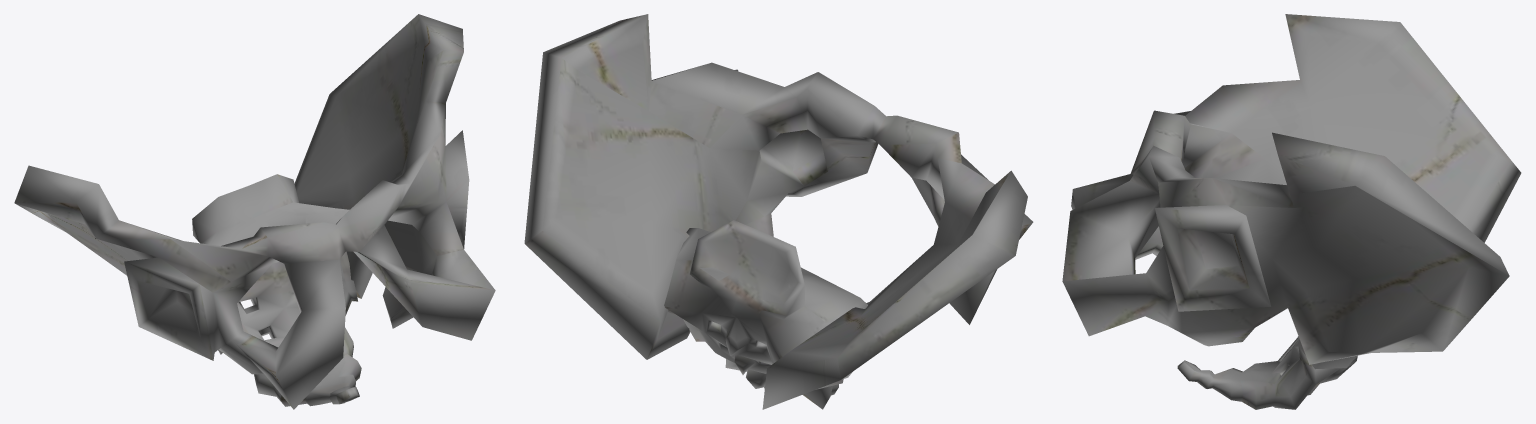
Rendered from Dungeon_Pelvis.glb.
3 renders of one model, left to right at view 1: azimuth 30°, elevation 25°; view 2: azimuth 150°, elevation 25°; view 3: azimuth 270°, elevation 25°, orthographic. The views are drawn at different scales.
Visible parts, largest first — view 1: Dungeon_Pelvis; view 2: Dungeon_Pelvis; view 3: Dungeon_Pelvis.
Part boxes in pixels (<box>): Dungeon_Pelvis: <box>14,14,495,409</box>; Dungeon_Pelvis: <box>524,14,1033,409</box>; Dungeon_Pelvis: <box>1062,14,1521,409</box>.
Size of the model in its own units: 0.4513 by 0.3058 by 0.3755.
Materials: 1 (1 with a texture image).
